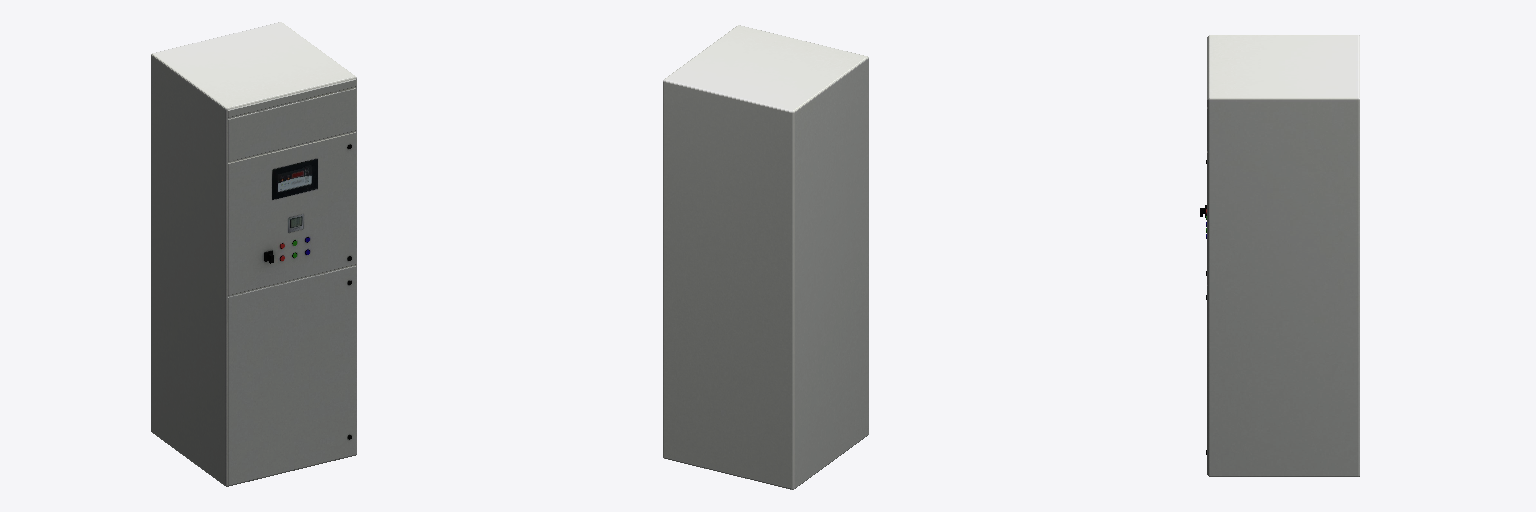
3 renders of one model, left to right at view 1: azimuth 30°, elevation 25°; view 2: azimuth 150°, elevation 25°; view 3: azimuth 270°, elevation 25°, orthographic.
Parts seen in each view (by area): view 1: mcc80_1; view 2: mcc80_1; view 3: mcc80_1.
Boxes of the visible parts, box(x1,y1,x2,y2) form: mcc80_1: box(151, 22, 356, 486); mcc80_1: box(663, 25, 868, 489); mcc80_1: box(1200, 35, 1359, 476).
Size of the model in its own units: 80 by 220 by 84.41.
1 materials, 1 textured.